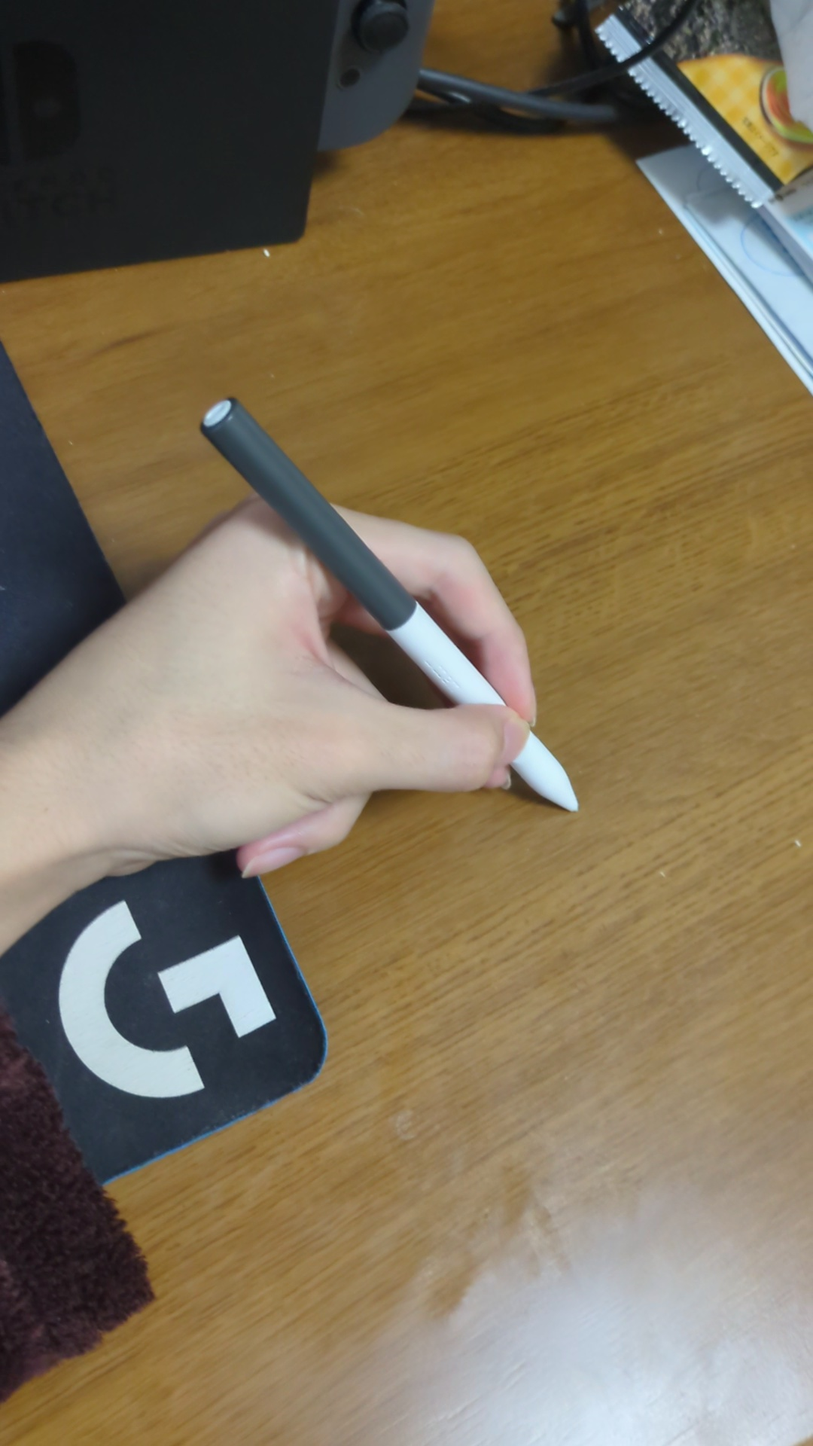pen: (196, 394, 587, 819)
tip: (562, 792, 596, 827)
